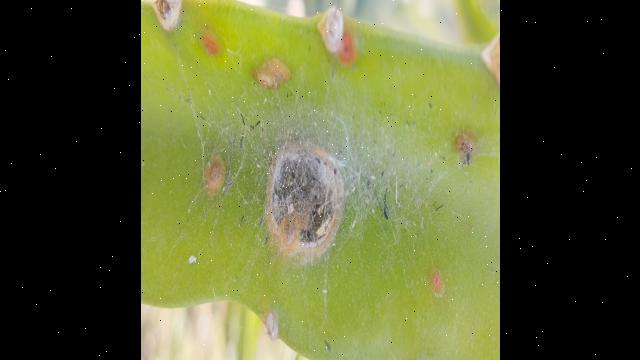stemcanker: (250, 52, 294, 95), (201, 149, 233, 200), (453, 126, 479, 166), (197, 23, 225, 59), (427, 267, 446, 299)
